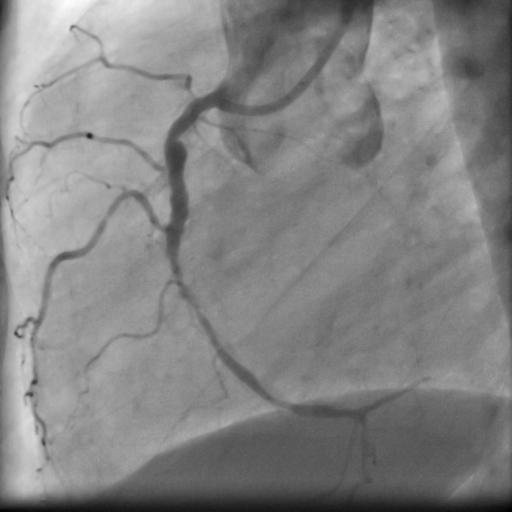Stenosis: (163, 122, 185, 143)
